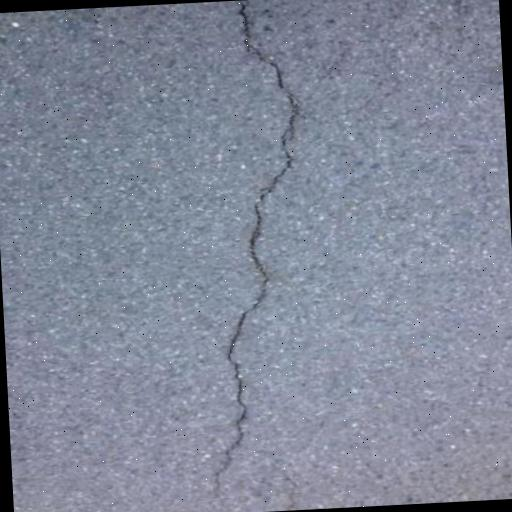spalling: (192, 13, 305, 502)
